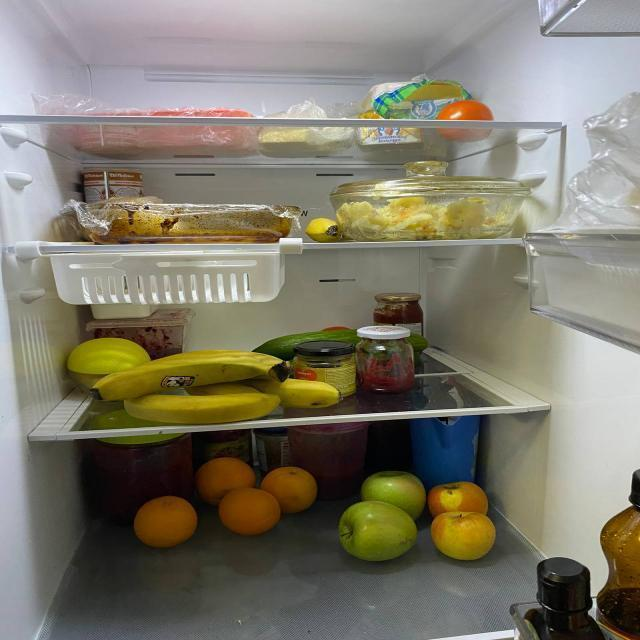apple: (342, 501, 418, 559), (428, 511, 499, 562), (358, 468, 426, 504), (424, 482, 488, 513)
banana: (86, 352, 292, 398), (113, 389, 279, 421), (262, 380, 346, 411), (294, 213, 340, 242)
cucumber: (243, 329, 428, 358)
orange: (134, 496, 200, 542), (265, 464, 315, 510), (194, 458, 256, 495), (224, 493, 279, 533)
tomato: (438, 101, 494, 125), (320, 323, 355, 333)
